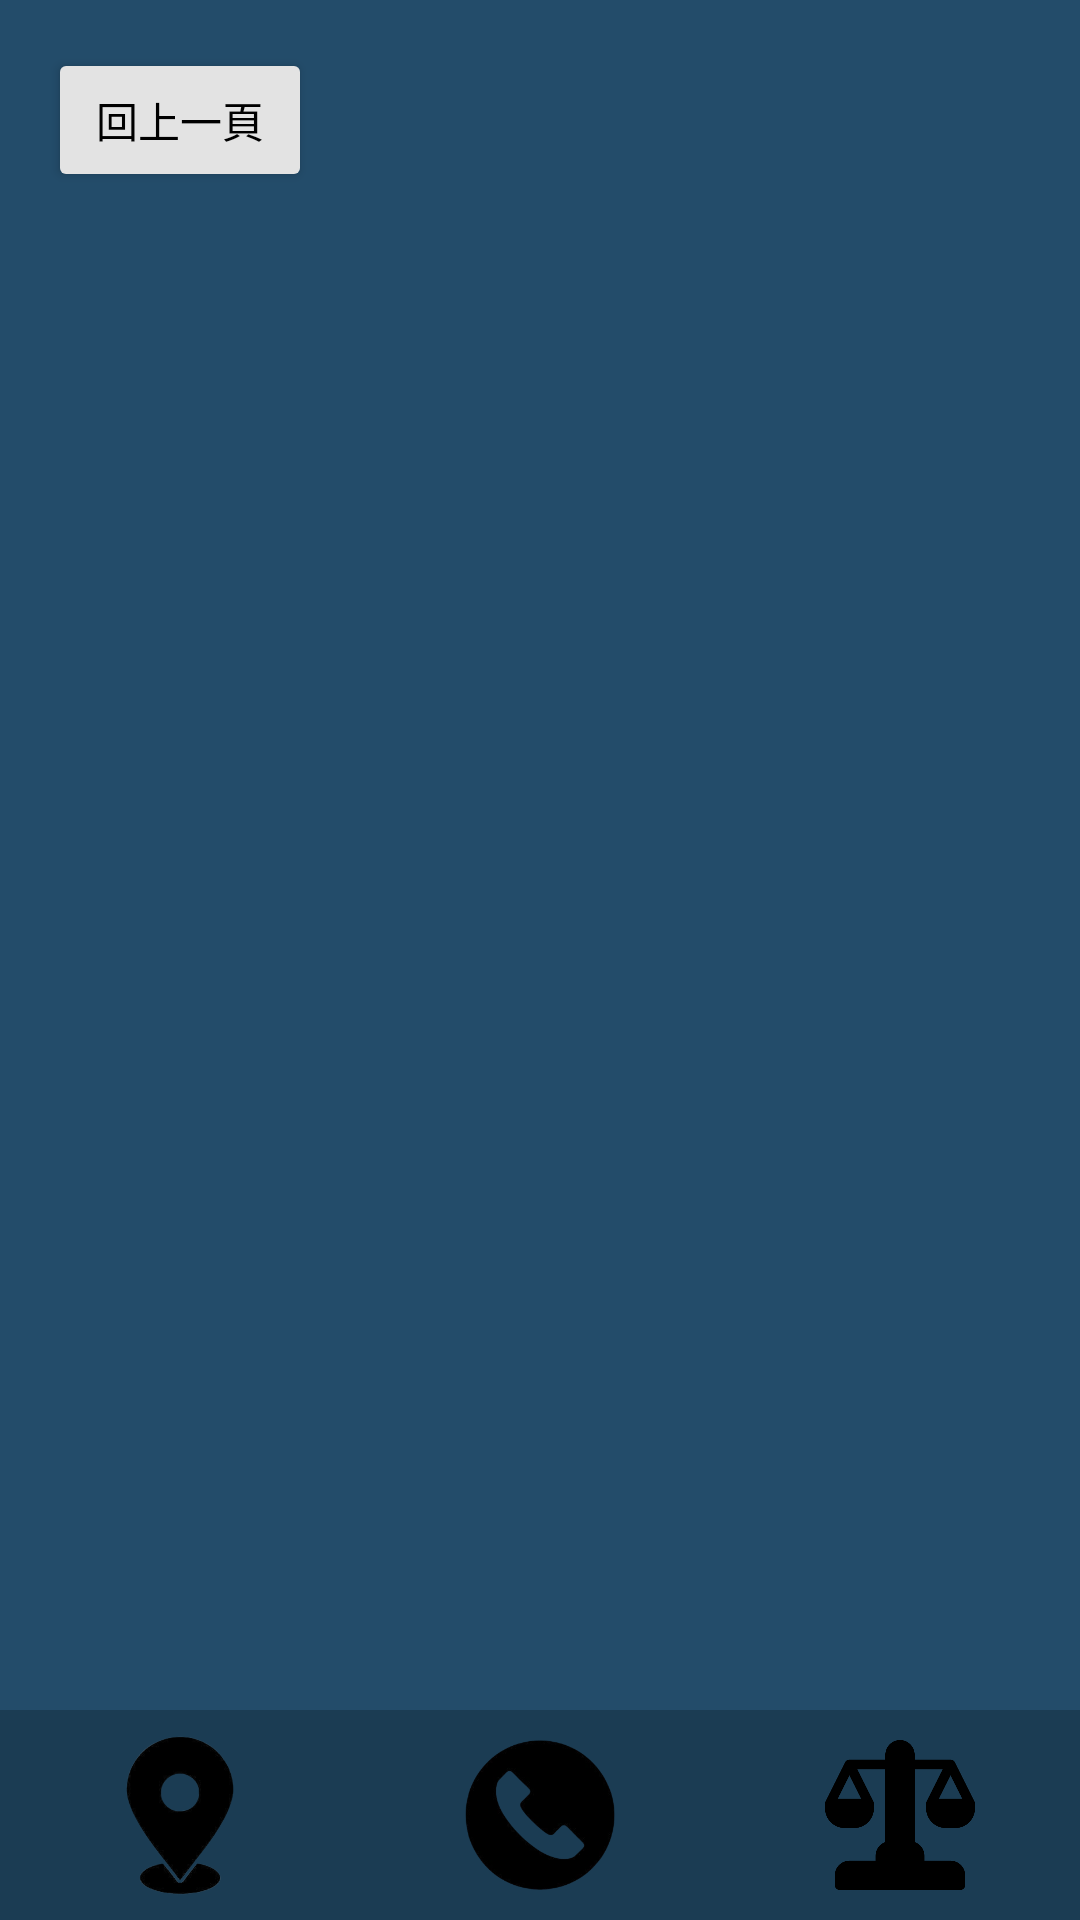

Icons on this 1080px×1920px Android screen, each with the point to tap as [x,y]:
law: [900,1815]
location: [180,1815]
phone: [540,1815]
